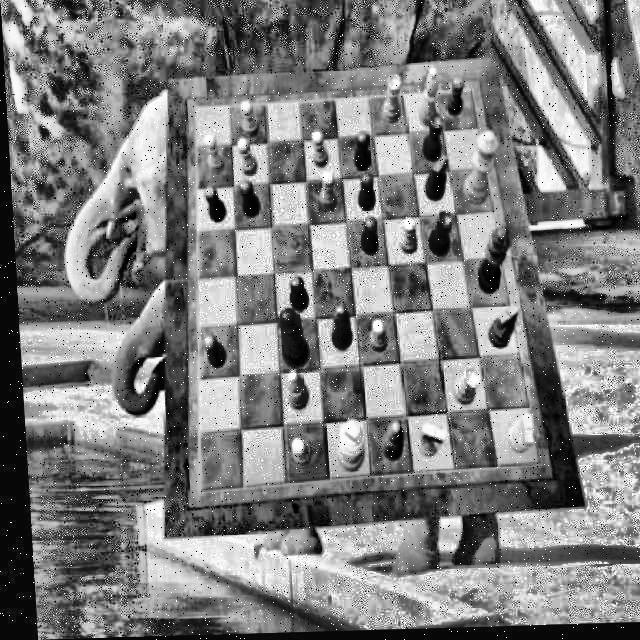black-bishop: (325, 306, 348, 352), (374, 424, 399, 464)
black-king: (472, 228, 509, 298)
black-knight: (483, 307, 518, 352), (422, 158, 449, 204)
black-pawn: (444, 80, 466, 120), (200, 334, 223, 369), (203, 186, 224, 224), (237, 182, 258, 218), (358, 218, 377, 256), (351, 135, 369, 174), (356, 175, 374, 213), (286, 278, 305, 313)
black-queen: (273, 310, 306, 370)
black-rook: (418, 116, 443, 166), (426, 213, 453, 259)
white-bishop: (416, 70, 439, 130), (282, 372, 305, 412)
white-king: (331, 421, 363, 476)
white-knight: (500, 416, 530, 457), (411, 425, 443, 460)
white-pawn: (202, 134, 223, 176), (236, 140, 257, 179), (239, 100, 258, 138), (316, 174, 334, 213), (310, 132, 328, 171), (398, 220, 416, 256), (365, 320, 384, 354), (286, 440, 308, 468)
white-queen: (457, 132, 498, 208)
white-rook: (447, 371, 476, 409), (381, 77, 403, 125)
